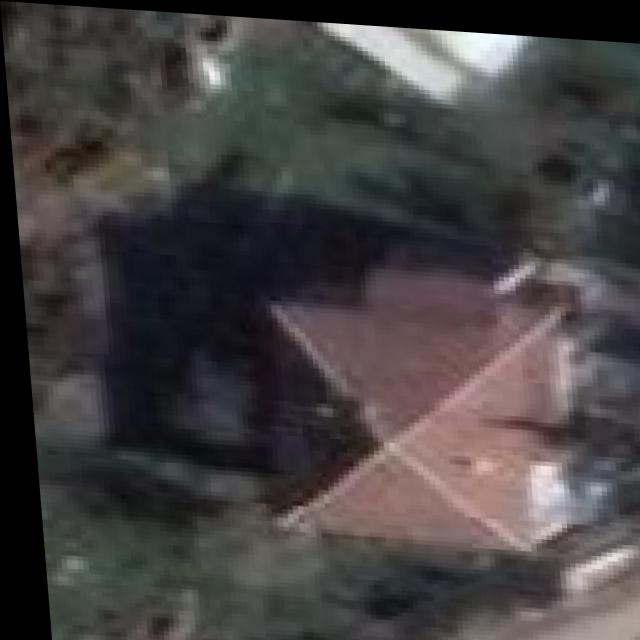Batiment: (258, 251, 640, 544)
